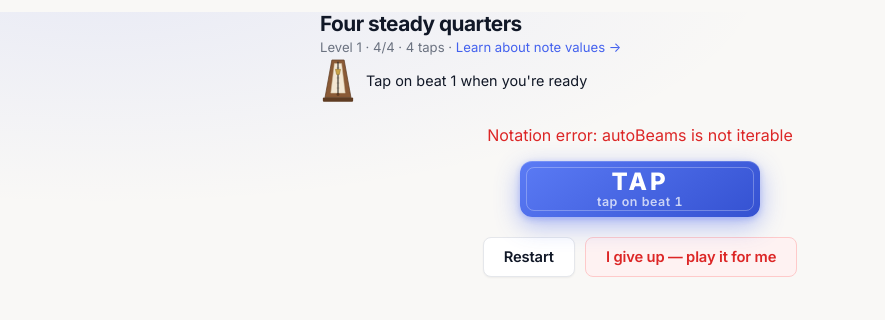
Test: ExercisePlayer › auto-starts count-in then captures taps and submits them
Expected: the heading "Four steady quarters" is shown, [320,11,522,36]
Click the button "TAP tap on beat 1" at [640, 189], box [520,161,760,217]
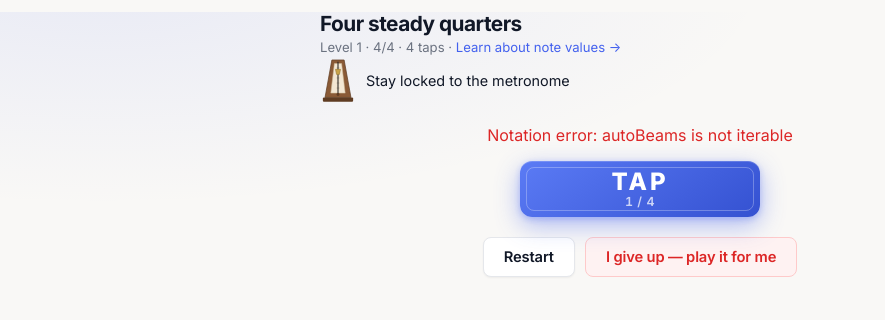
Click the button "TAP 1 / 4" at [640, 189], box [520,161,760,217]
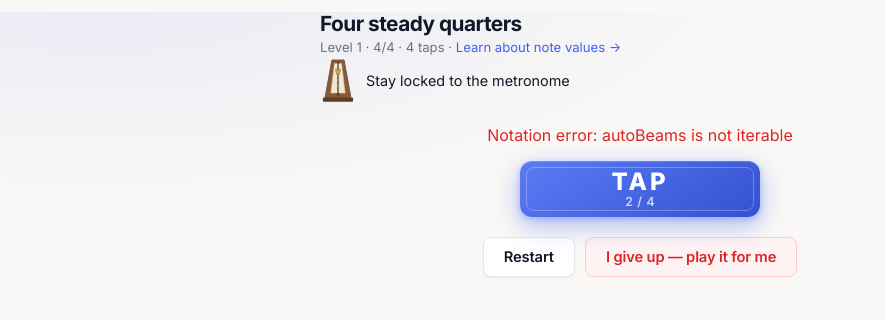
Click the button "TAP 2 / 4" at [640, 189], box [520,161,760,217]
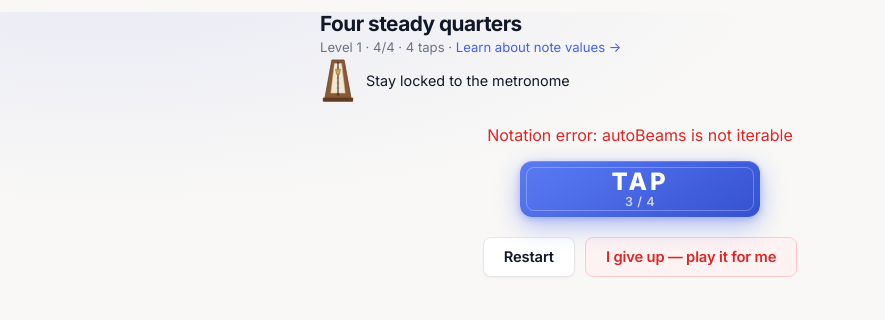
Click the button "TAP 3 / 4" at [640, 189], box [520,161,760,217]
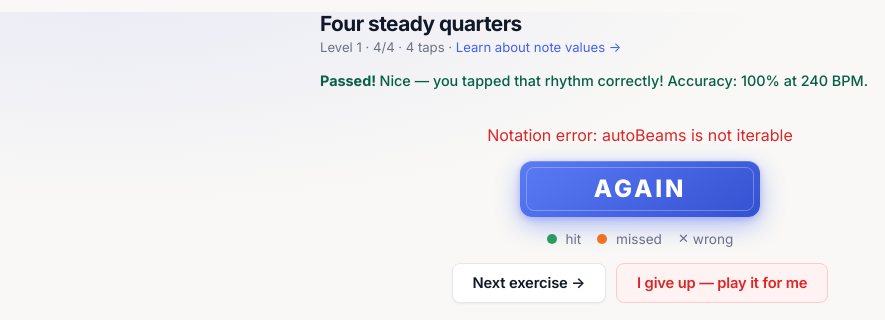
Expected: the text "Passed!" is shown, [320,72,380,90]
Expected: the text "Accuracy: 100%" is shown, [320,72,868,90]
